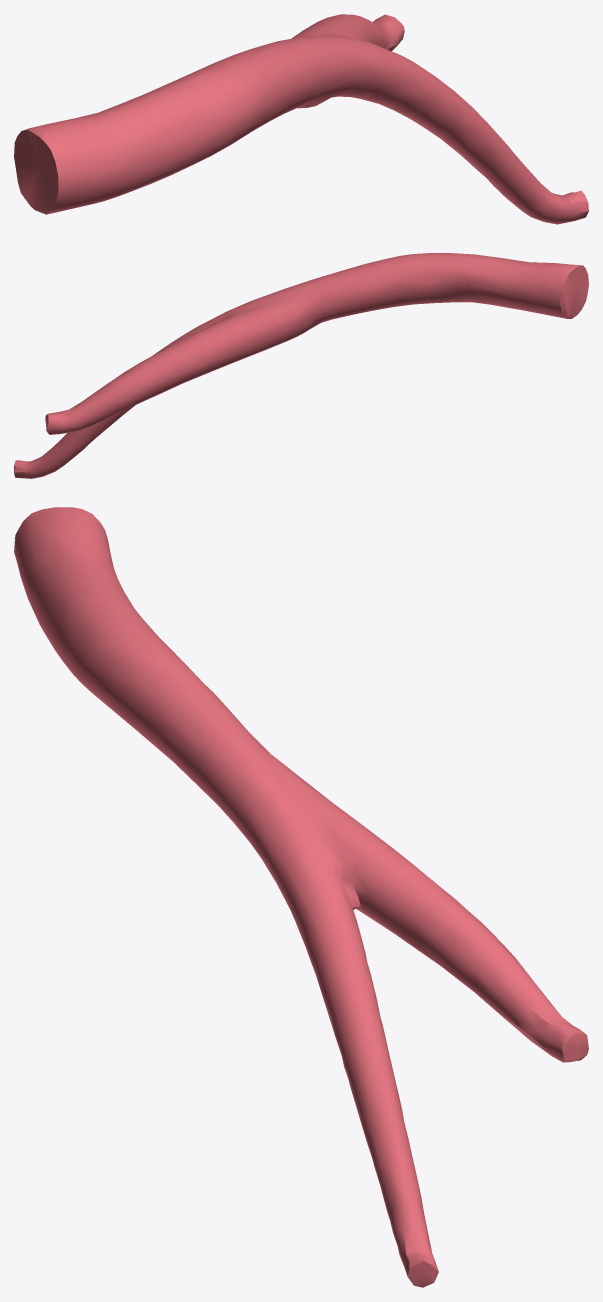
The model's file is fma3860_mm422.glb.
The picture shows the model from 3 angles, top to bottom: view 1: azimuth 30°, elevation 25°; view 2: azimuth 150°, elevation 25°; view 3: azimuth 270°, elevation 25°; orthographic projection. The views are drawn at different scales.
Parts seen in each view (by area): view 1: FMA3860_MM422; view 2: FMA3860_MM422; view 3: FMA3860_MM422.
Part boxes in pixels (x1,y1,x2,y2): FMA3860_MM422: (14, 14, 588, 224); FMA3860_MM422: (14, 253, 588, 478); FMA3860_MM422: (14, 507, 588, 1287).
Bounding box in the file's own units: 0.0277 × 0.0141 × 0.0179.
